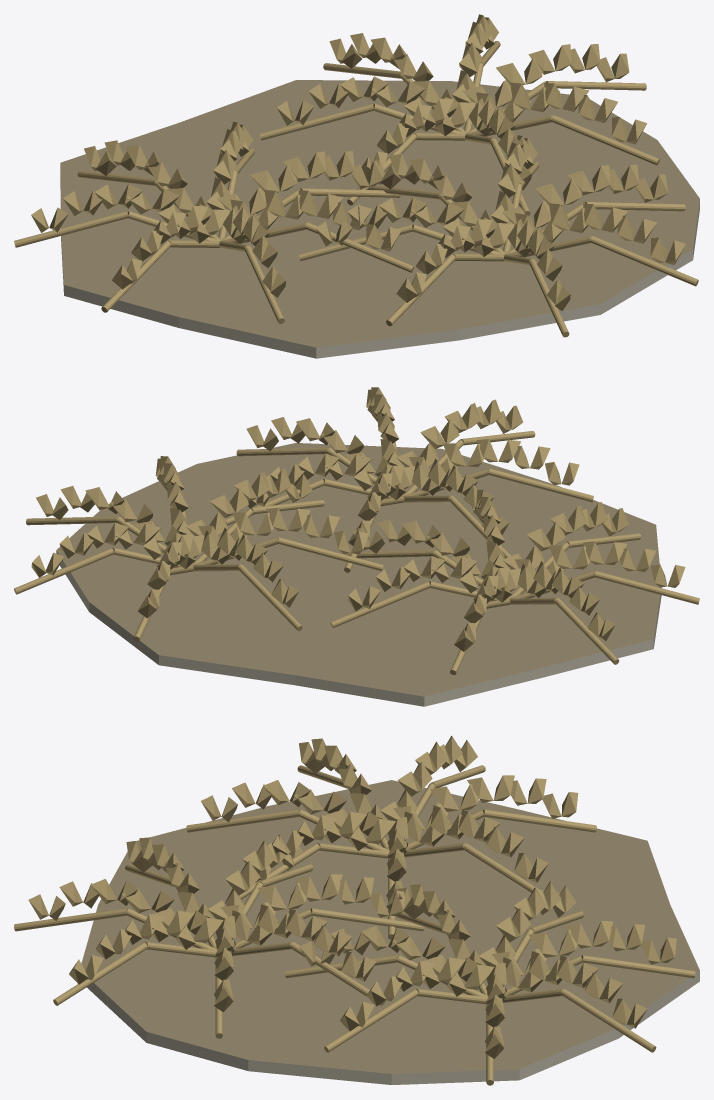
File: Fern_Cluster_Withered.glb
3 renders of one model, top to bottom at view 1: azimuth 30°, elevation 25°; view 2: azimuth 150°, elevation 25°; view 3: azimuth 270°, elevation 25°, orthographic. The views are drawn at different scales.
Parts seen in each view (by area): view 1: Support, Growth; view 2: Support, Growth; view 3: Support, Growth.
Boxes of the visible parts, x1,y1,x2,y2 form: Support: (60, 80, 699, 358); Growth: (14, 14, 698, 337); Support: (56, 443, 661, 706); Growth: (14, 387, 699, 674); Support: (81, 780, 699, 1084); Growth: (14, 735, 695, 1085).
Size of the model in its own units: 3.03 by 0.36 by 2.79.
